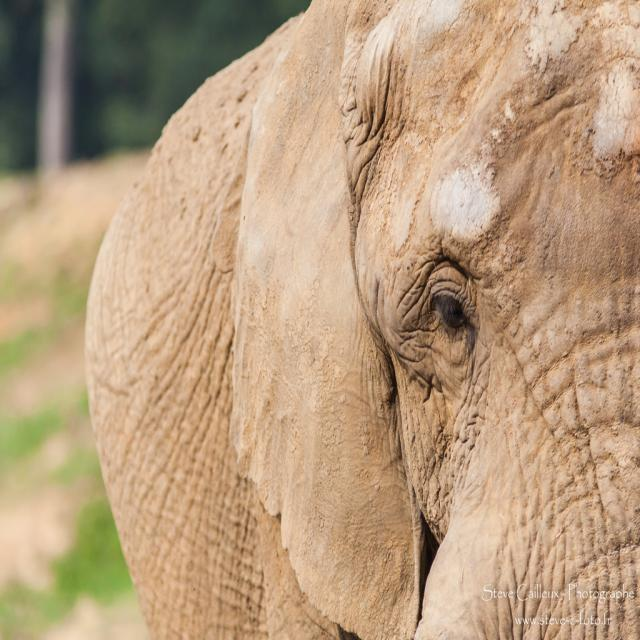Elephant: (47, 0, 627, 640)
